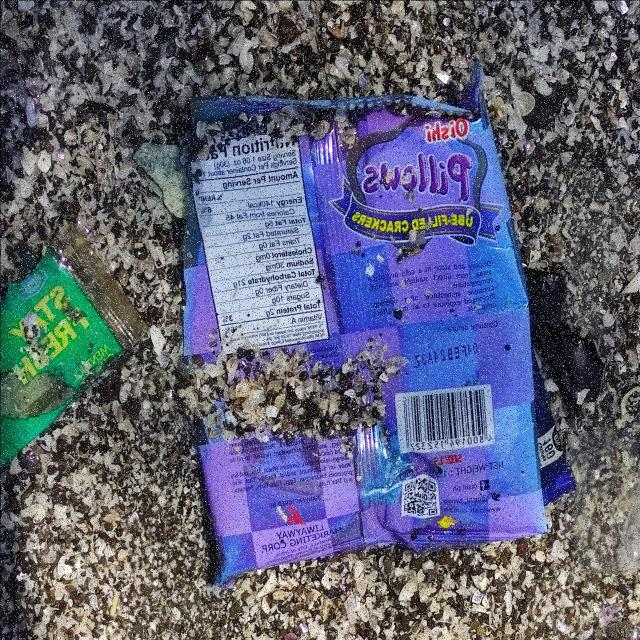plastic_waste: (181, 81, 564, 592), (1, 216, 149, 470)
